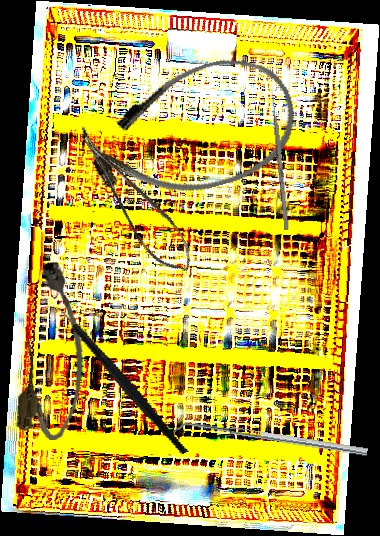Cannula: (72, 43, 311, 219), (14, 258, 94, 443)
Chopper: (42, 276, 189, 483)
Micro Scissor: (78, 120, 201, 285)
Pusher: (269, 87, 290, 230)
Spatula Surgical: (173, 417, 368, 464)
